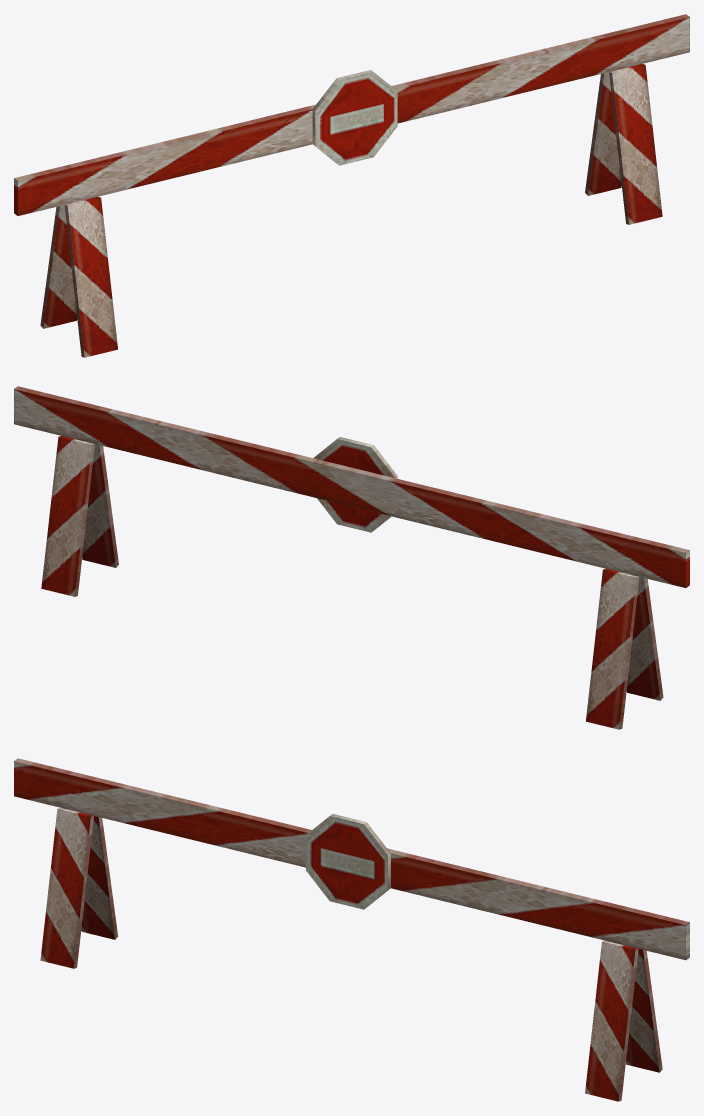
Rendered from Road_Barrier2.glb.
3 views of the same model, one above another, from view 1: azimuth 30°, elevation 25°; view 2: azimuth 150°, elevation 25°; view 3: azimuth 330°, elevation 25° (orthographic).
Visible parts, largest first — view 1: ROAD_BARRIER2; view 2: ROAD_BARRIER2; view 3: ROAD_BARRIER2.
Boxes of the visible parts, x1,y1,x2,y2 form: ROAD_BARRIER2: (14,14,689,357); ROAD_BARRIER2: (14,386,689,729); ROAD_BARRIER2: (14,758,689,1101).
Bounding box in the file's own units: 4 × 1.14 × 0.455.
Materials: 1 (1 with a texture image).
